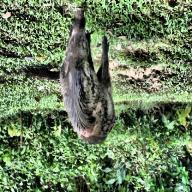boar: (46, 1, 127, 161)
